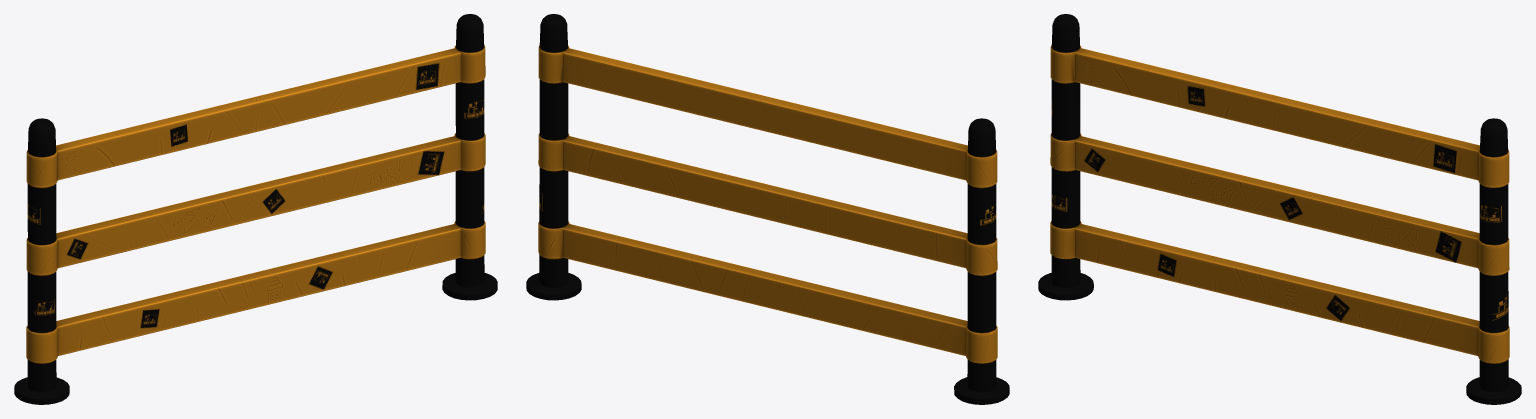
Rendered from barriere.obj.
3 renders of one model, left to right at view 1: azimuth 30°, elevation 25°; view 2: azimuth 150°, elevation 25°; view 3: azimuth 330°, elevation 25°, orthographic.
Parts seen in each view (by area): view 1: lp_Cylinder; view 2: lp_Cylinder; view 3: lp_Cylinder.
Boxes of the visible parts, x1=… form: lp_Cylinder: x1=14, y1=14, x2=497, y2=404; lp_Cylinder: x1=526, y1=14, x2=1009, y2=404; lp_Cylinder: x1=1038, y1=14, x2=1521, y2=404.
Bounding box in the file's own units: 3.51 × 1.92 × 0.3554.
1 material, 1 textured.
